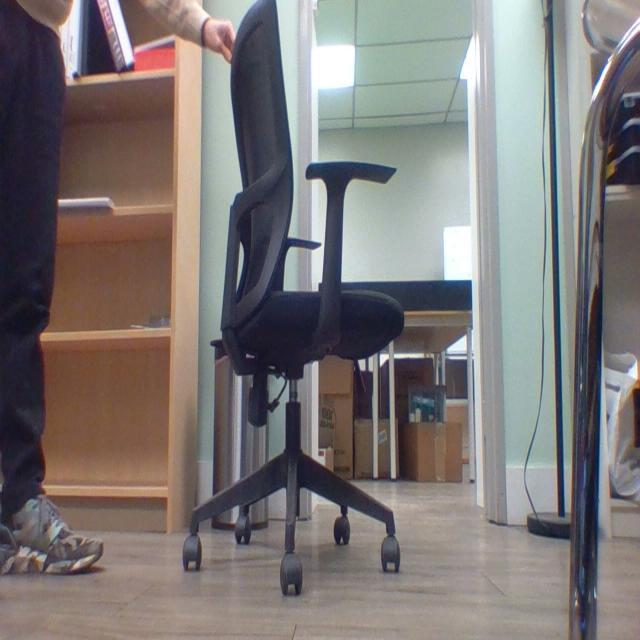chair: (176, 0, 402, 589)
